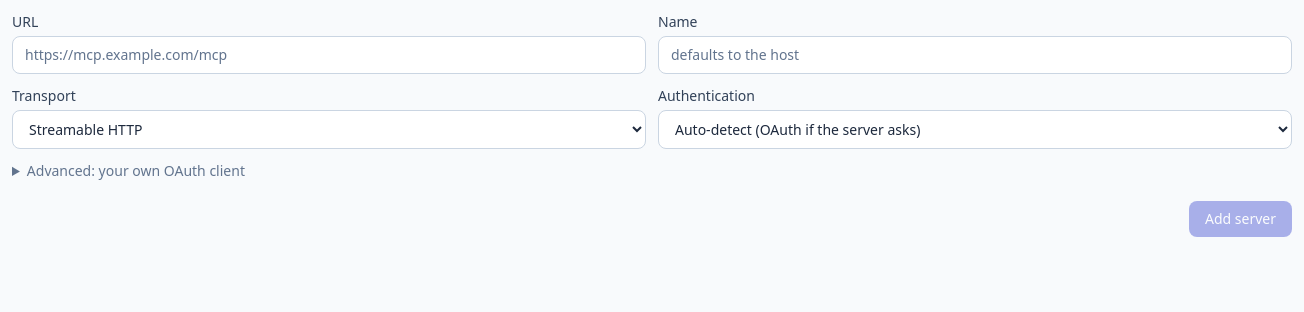
Test case: ServerForm › shows why a server could not connect
Type "http://10.0.0.5/mcp" into the field labelled "URL" at (329, 55), box [12, 36, 646, 74]
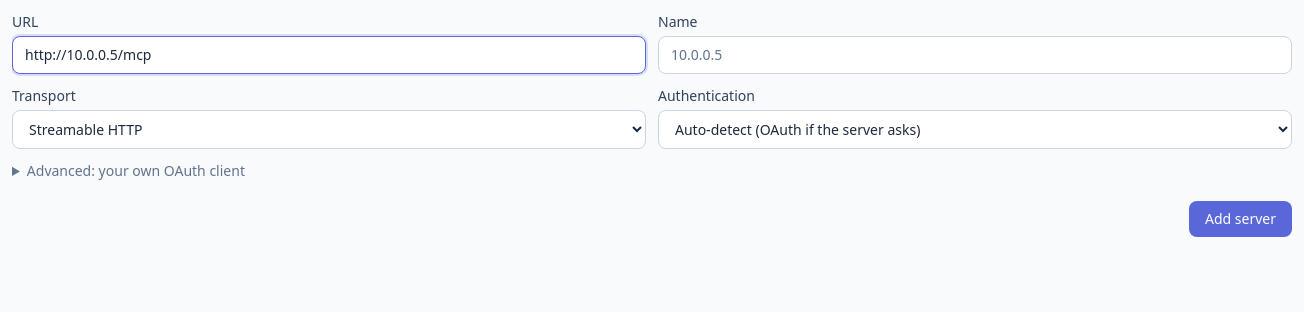
Click the button "Add server" at (1240, 219), box [1189, 201, 1292, 237]
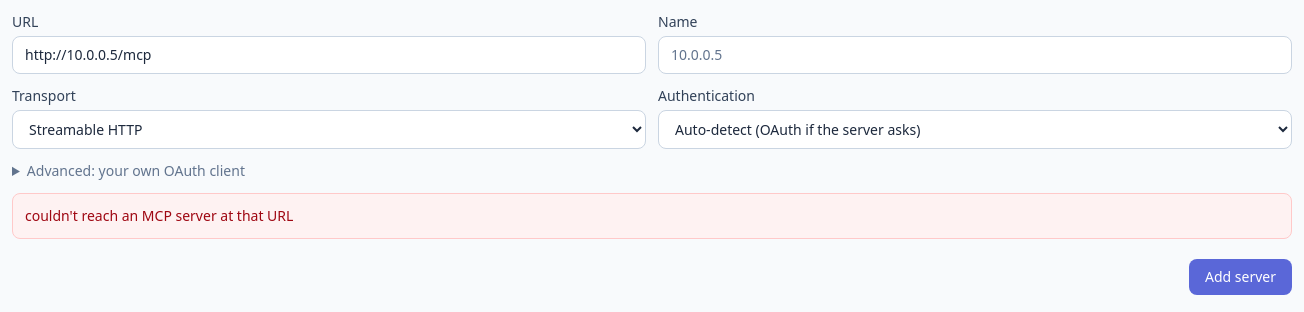
Expected: the text "couldn't reach an MCP server at that URL" is shown, [25, 206, 293, 226]
